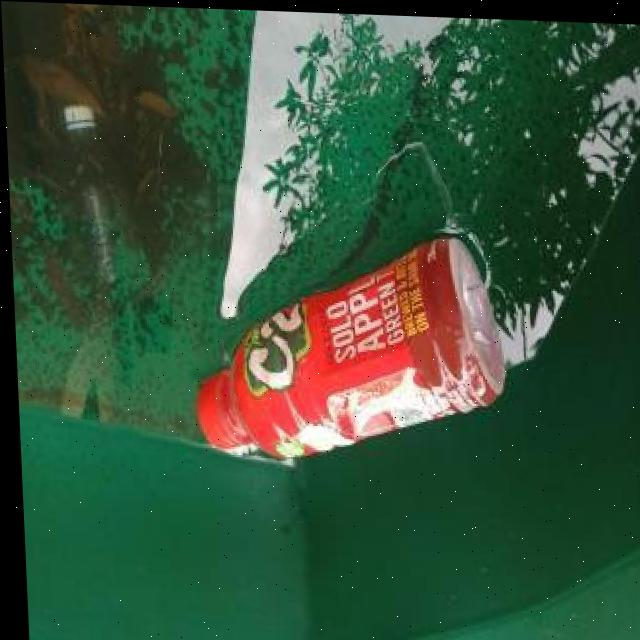bottle: (185, 223, 505, 462)
